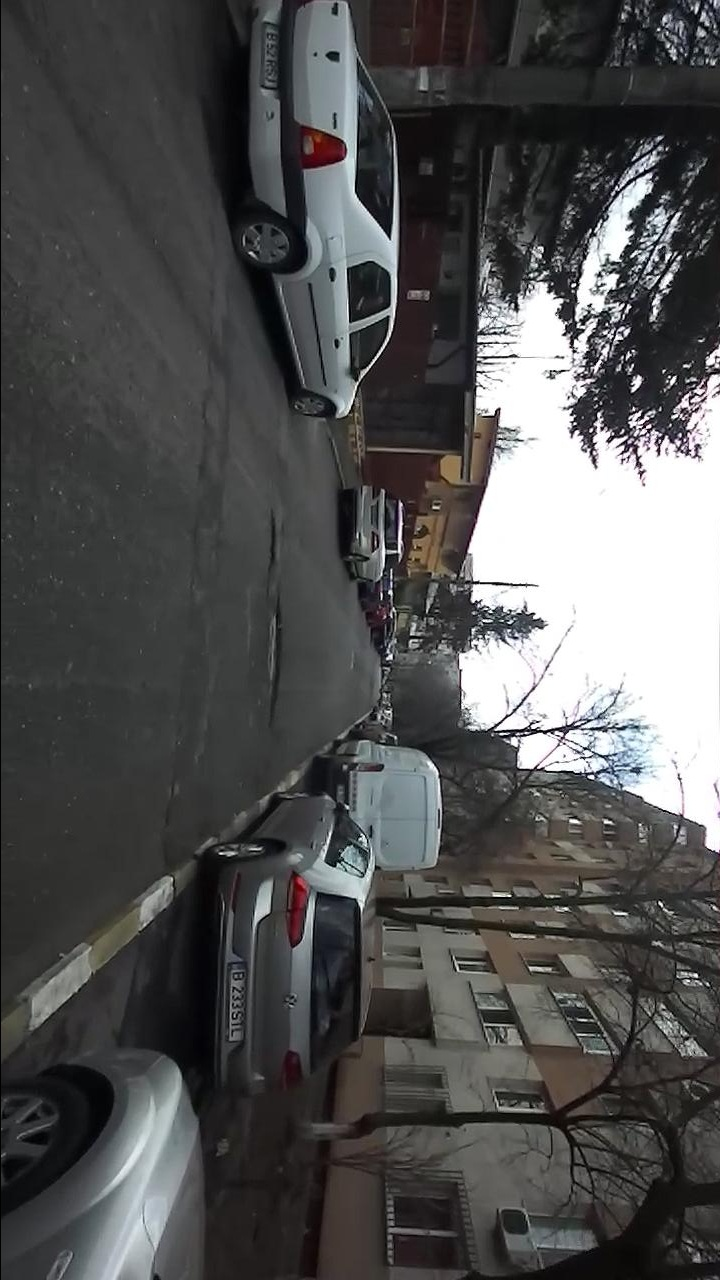pothole: (263, 591, 286, 731), (154, 776, 179, 861), (267, 505, 283, 578)
